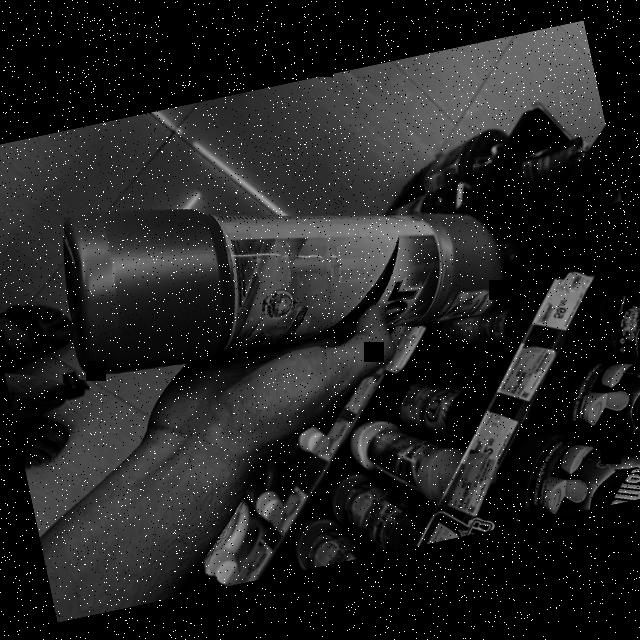chemical_plastic_bottle: (44, 114, 548, 408)
